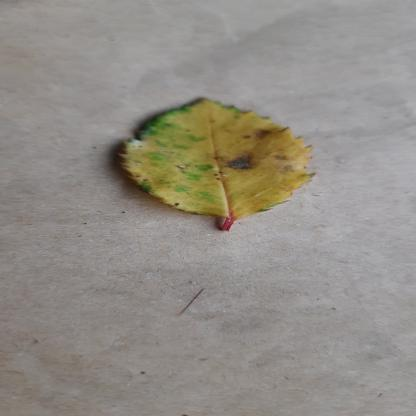black-spot: (112, 97, 318, 220)
